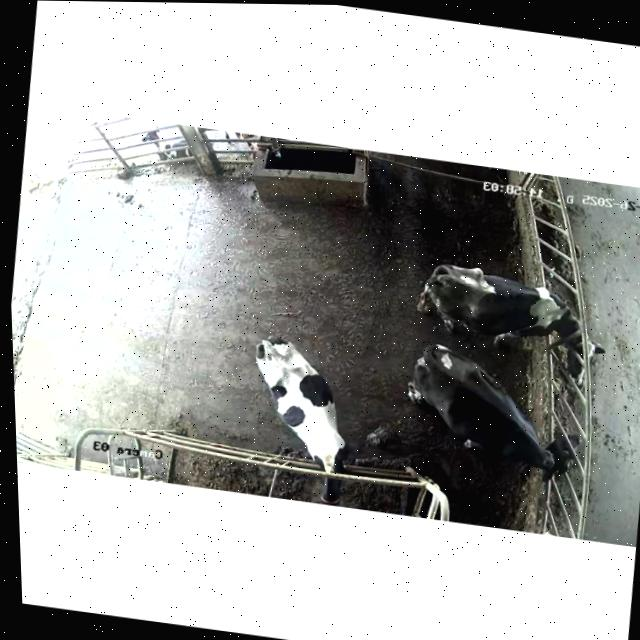stand: (223, 316, 376, 508)
